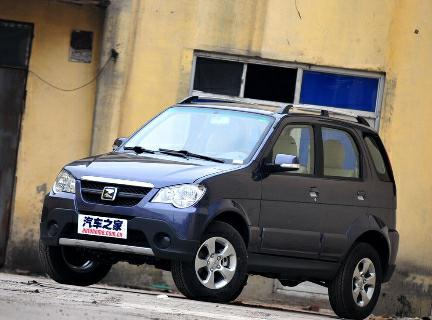众泰-5008: (34, 97, 407, 320)
